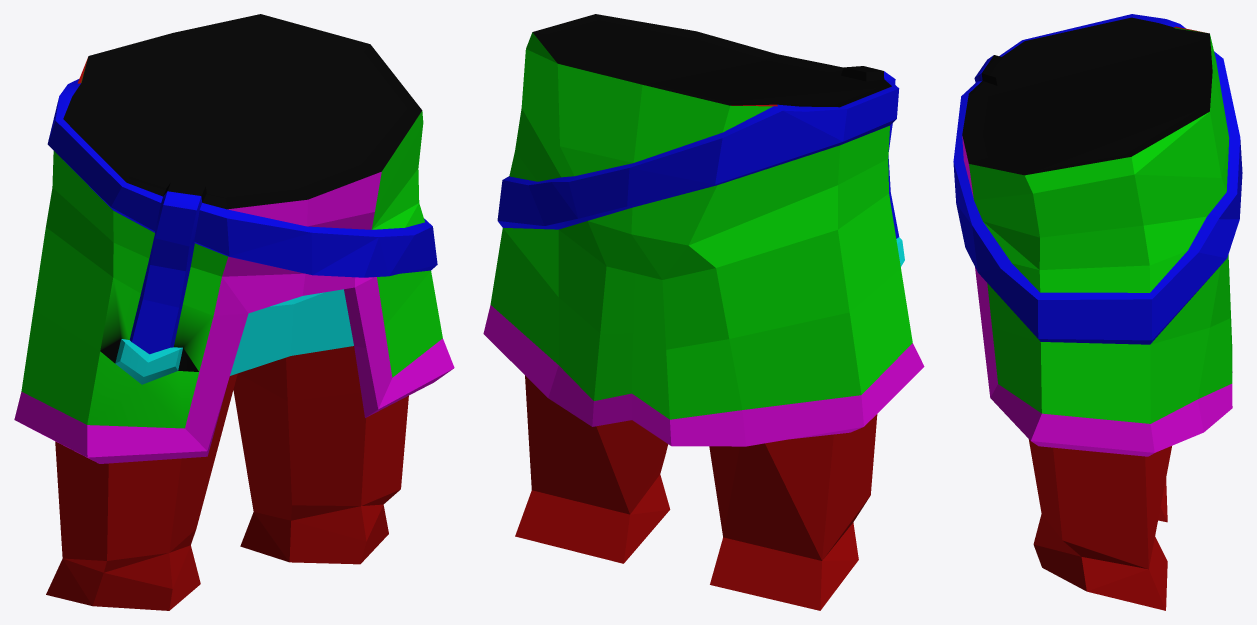
File: Chr_Hips_Male_Static_06.fbx
3 views of the same model, side by side, from view 1: azimuth 30°, elevation 25°; view 2: azimuth 150°, elevation 25°; view 3: azimuth 270°, elevation 25° (orthographic). The views are drawn at different scales.
Parts seen in each view (by area): view 1: Chr_Hips_Male_06; view 2: Chr_Hips_Male_06; view 3: Chr_Hips_Male_06.
Part boxes in pixels (box(x1,y1,x2,y2)): Chr_Hips_Male_06: box(14, 14, 454, 610); Chr_Hips_Male_06: box(483, 14, 924, 610); Chr_Hips_Male_06: box(953, 14, 1242, 610).
Bounding box in the file's own units: 43.54 × 55.45 × 30.89.
